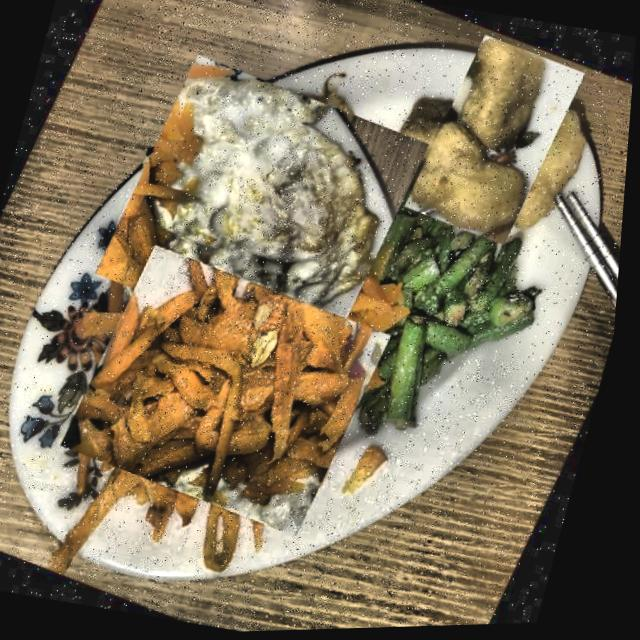Food: (86, 38, 444, 384), (51, 231, 412, 552), (390, 39, 604, 247)
